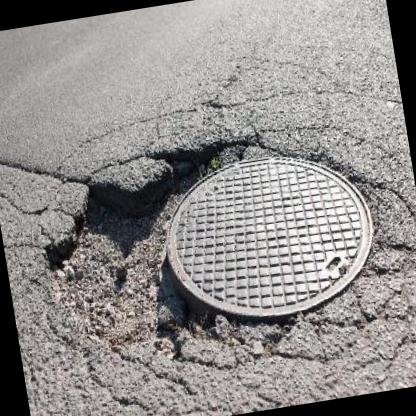pothole: (25, 128, 263, 374)
